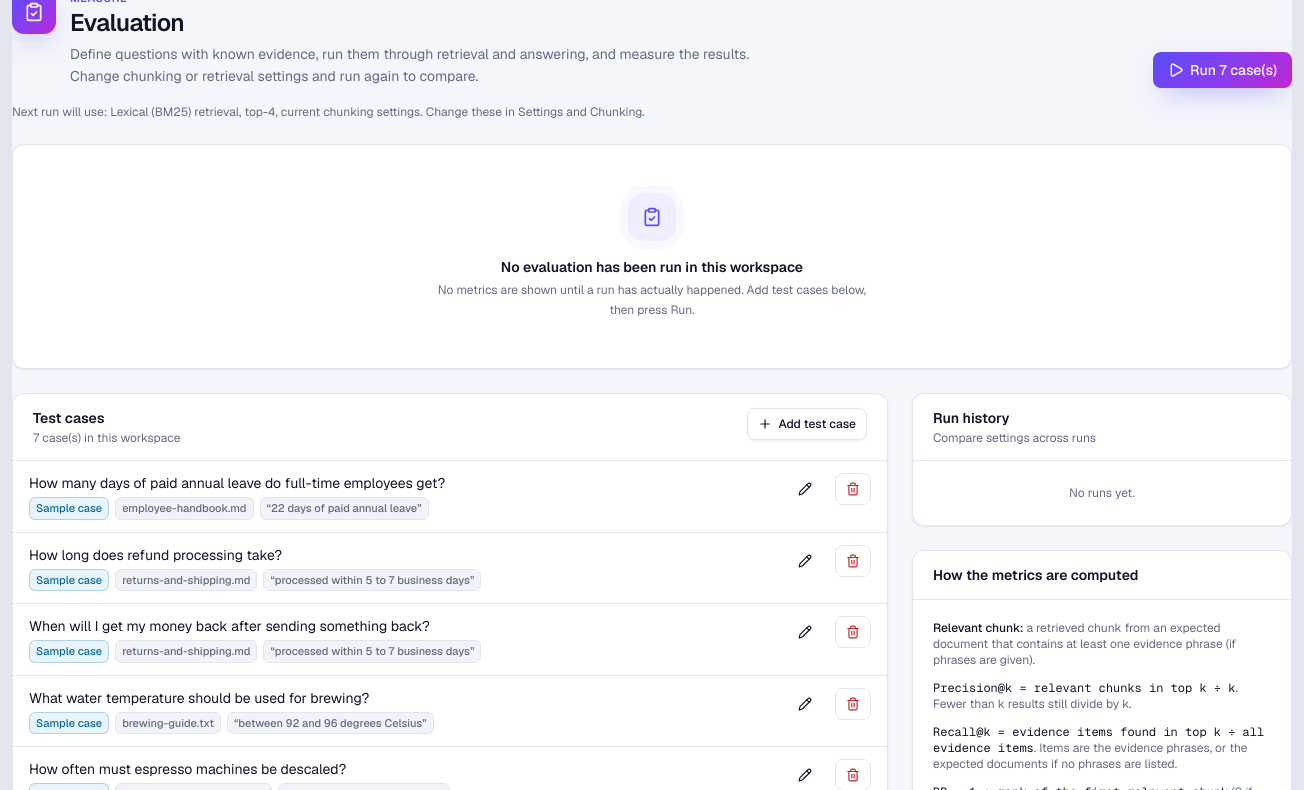
Test case: EvaluationView › adds a user test case and validates it
Expected: the heading "Evaluation" is shown, 70,6 -> 184,38
Click the button "Add test case".
click(807, 424)  # box 747,408 -> 867,440
(page scrolled)
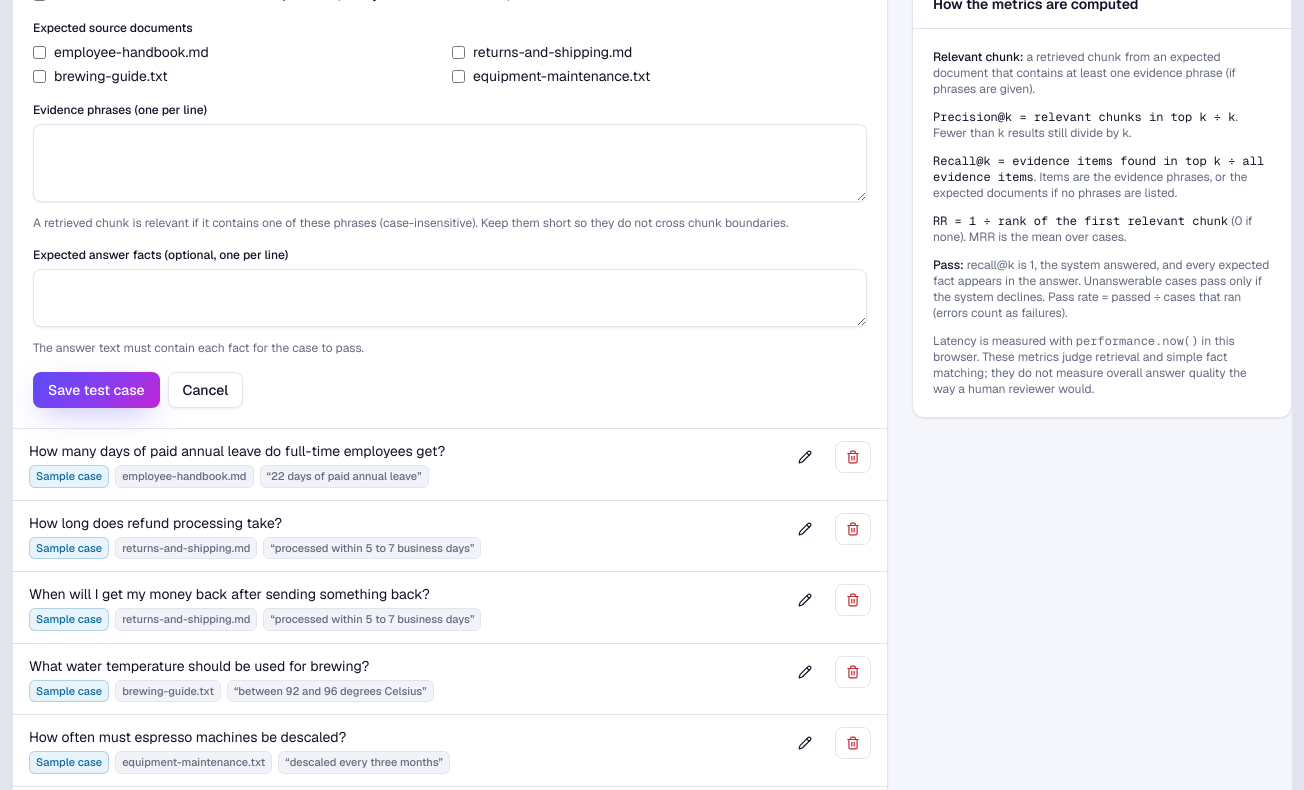
Click the button "Save test case".
click(96, 390)  # box 33,372 -> 160,408
(page scrolled)
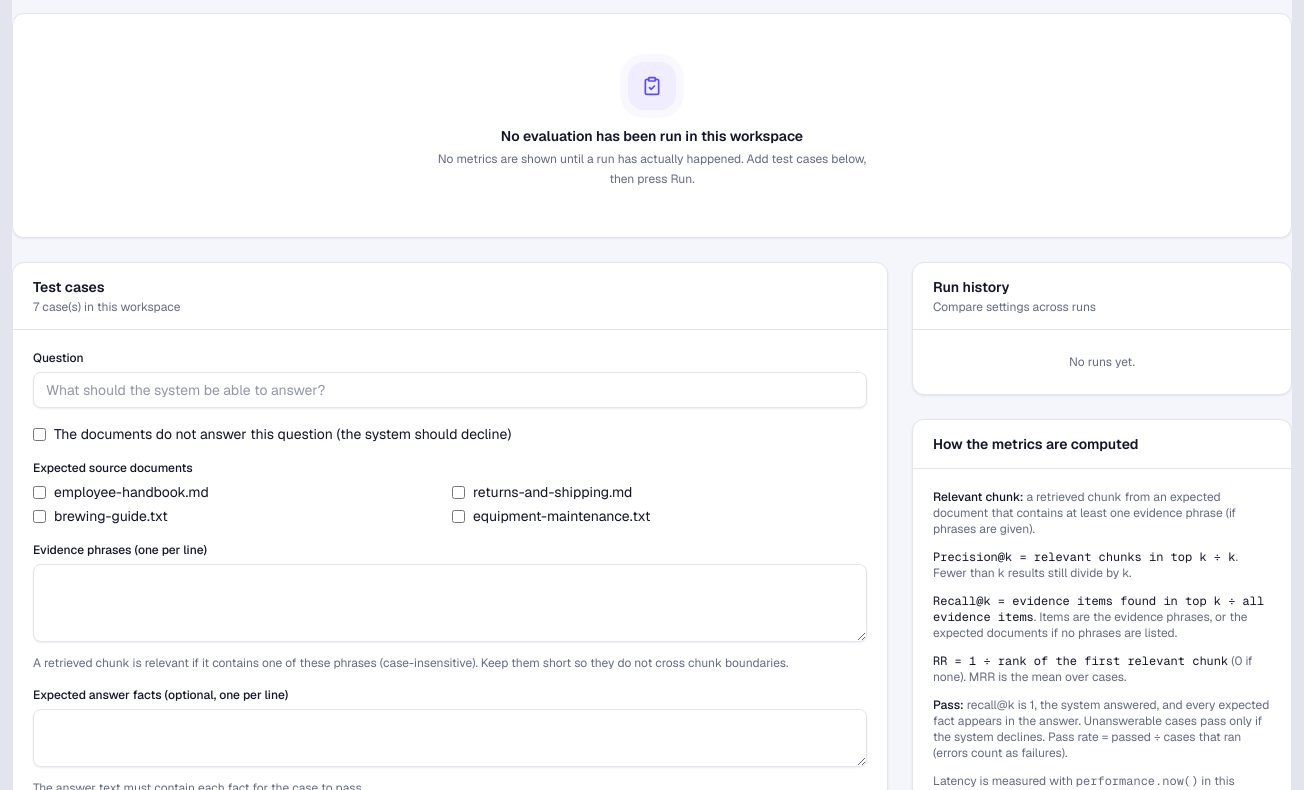
Type "What should staff wear when handling the roaster drum?" into the field labelled "Question".
click(450, 390); type("What should staff wear when handling the roaster drum?")  # box 33,372 -> 867,408
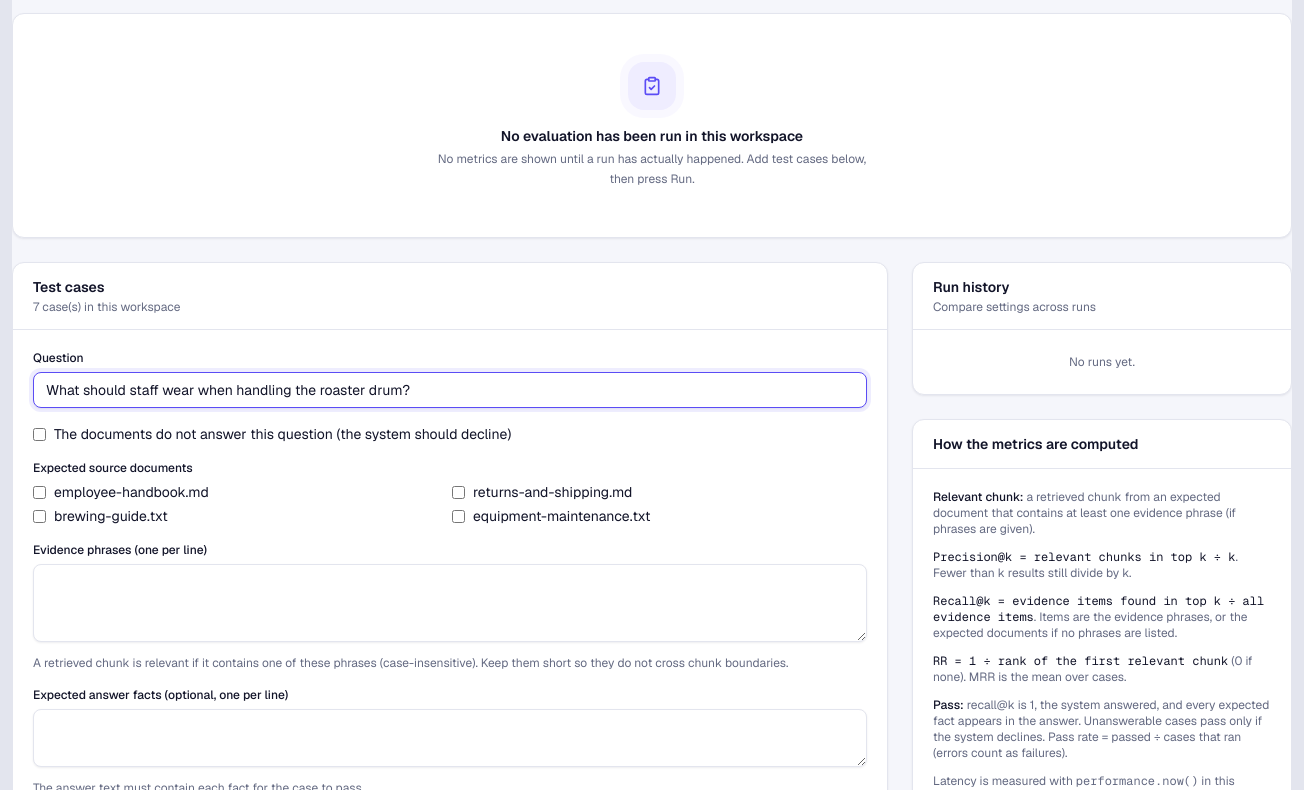
Click the checkbox labelled "employee-handbook.md".
click(40, 492)  # box 33,486 -> 46,498
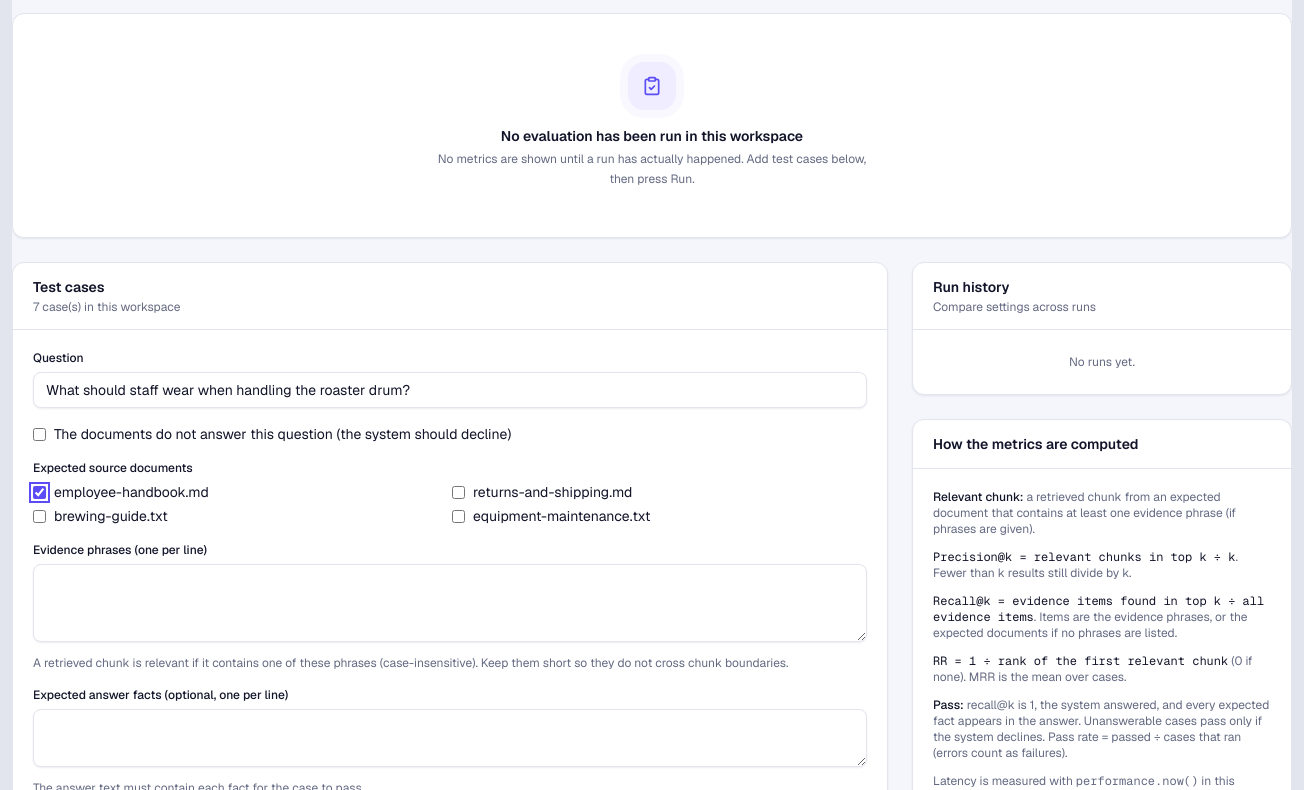
Type "Heat-resistant gloves" into the text box labelled "Evidence phrases (one per line)".
click(450, 603); type("Heat-resistant gloves")  # box 33,564 -> 867,642
(page scrolled)
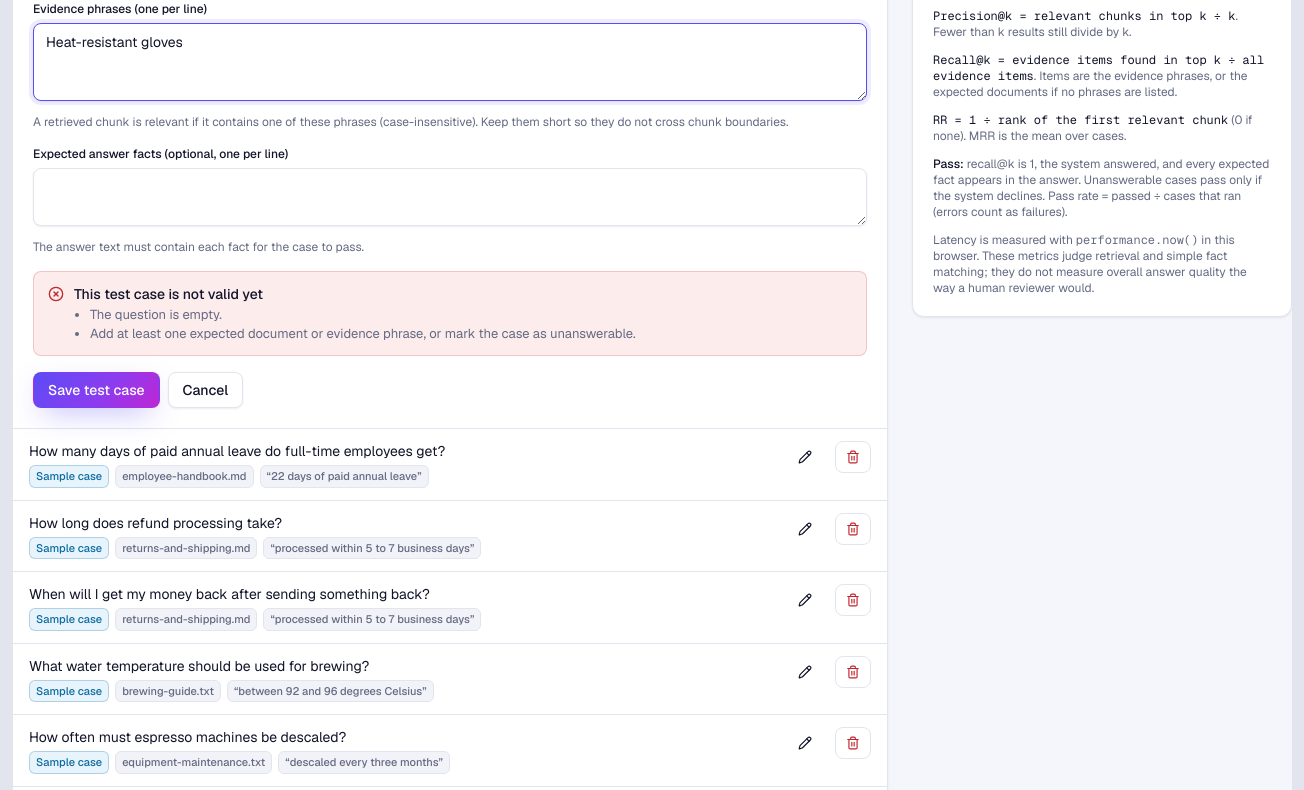
Click the button "Save test case".
click(96, 390)  # box 33,372 -> 160,408
(page scrolled)
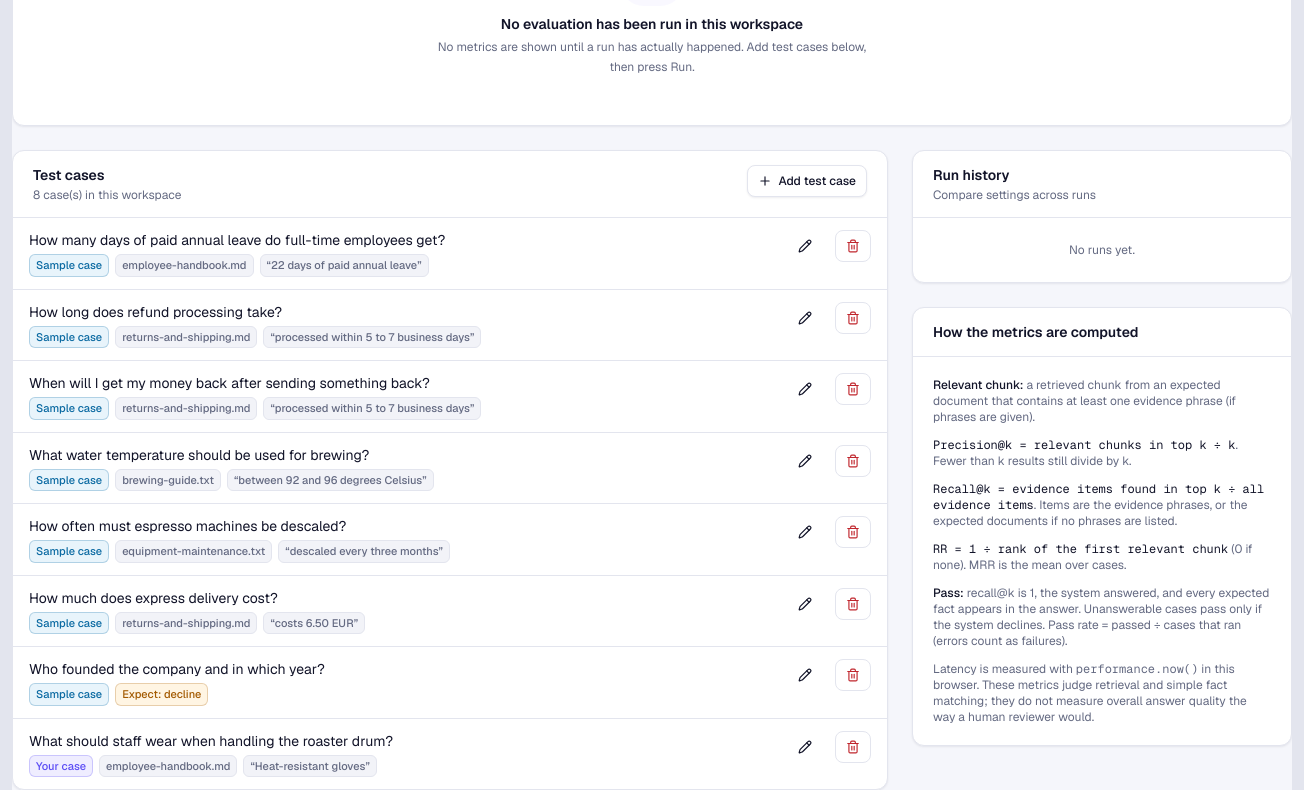
Now the text "Your case" is shown, box 29,754 -> 93,777
